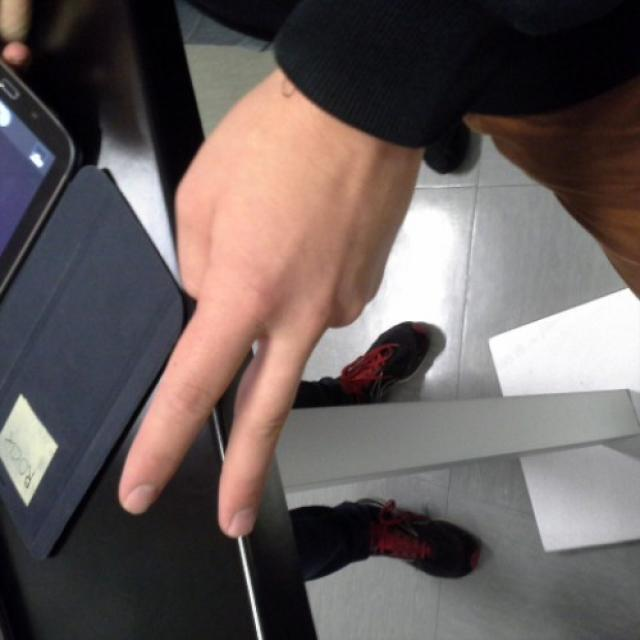scissors: (118, 154, 396, 540)
